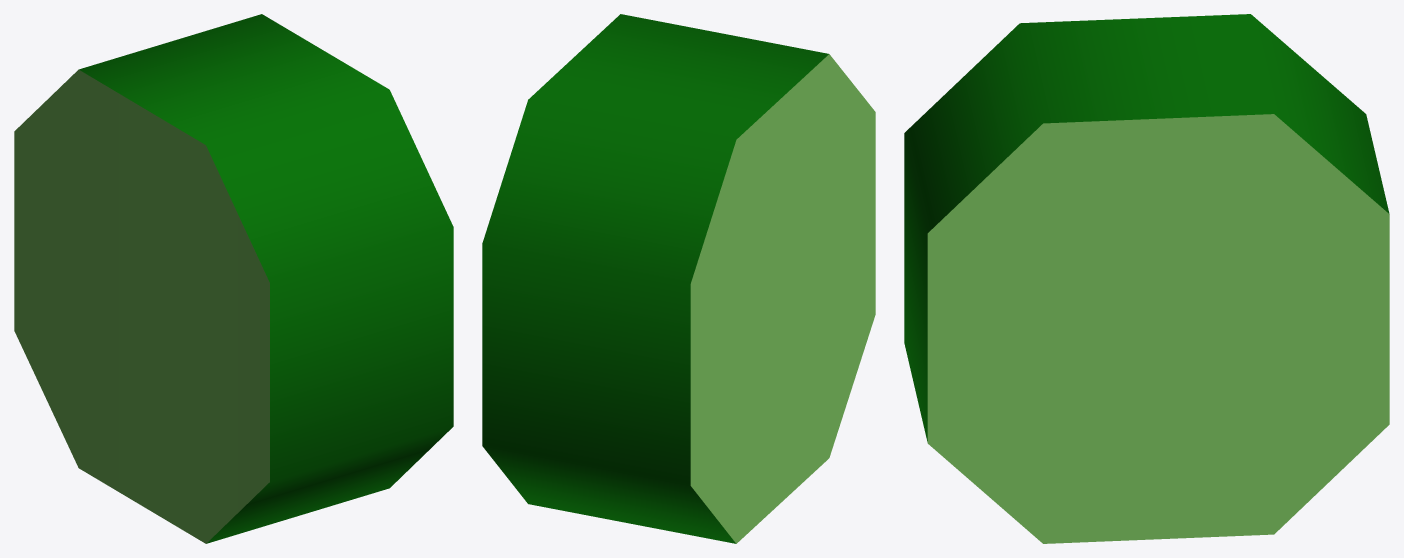
Rendered from mesh_CucumberSlice_Stage06.fbx.
3 views of the same model, side by side, from view 1: azimuth 30°, elevation 25°; view 2: azimuth 150°, elevation 25°; view 3: azimuth 270°, elevation 25° (orthographic). The views are drawn at different scales.
Visible parts, largest first — view 1: mesh_CucumberSlice_Stage06; view 2: mesh_CucumberSlice_Stage06; view 3: mesh_CucumberSlice_Stage06.
Part boxes in pixels (x1,y1,x2,y2): mesh_CucumberSlice_Stage06: (14,14,453,543); mesh_CucumberSlice_Stage06: (482,14,875,543); mesh_CucumberSlice_Stage06: (904,14,1389,543).
Bounding box in the file's own units: 0.0223 × 0.0367 × 0.0383.
